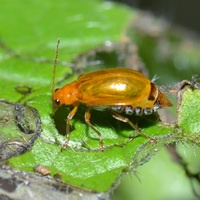insect: (52, 68, 172, 150)
